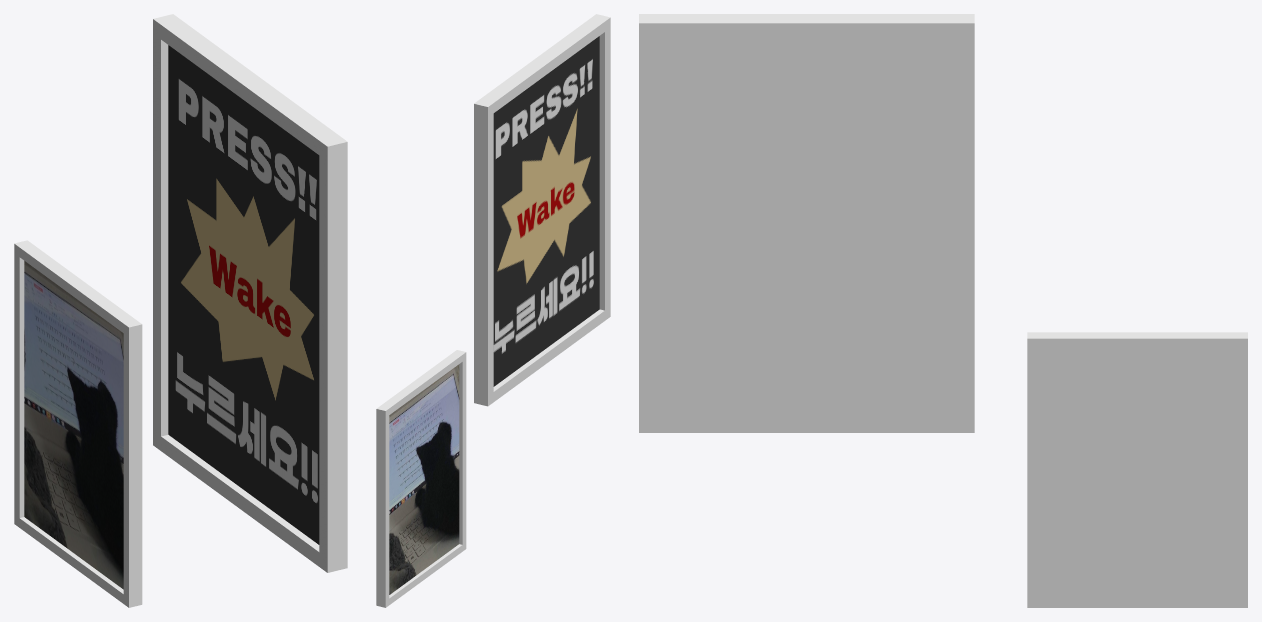
The model's file is Chater03_Frame.fbx.
3 views of the same model, side by side, from view 1: azimuth 30°, elevation 25°; view 2: azimuth 150°, elevation 25°; view 3: azimuth 270°, elevation 25° (orthographic). The views are drawn at different scales.
Parts seen in each view (by area): view 1: Cube.037, Cube.043; view 2: Cube.037, Cube.043; view 3: Cube.037, Cube.043.
Part boxes in pixels (left/top/right/bottom): Cube.037: left=153, top=14, right=347, bottom=572; Cube.043: left=14, top=240, right=142, bottom=607; Cube.037: left=474, top=14, right=610, bottom=406; Cube.043: left=376, top=350, right=466, bottom=607; Cube.037: left=639, top=14, right=974, bottom=432; Cube.043: left=1027, top=332, right=1247, bottom=607.
Bounding box in the file's own units: 78.27 × 2255 × 2123.
Materials: 4 (2 with a texture image).
